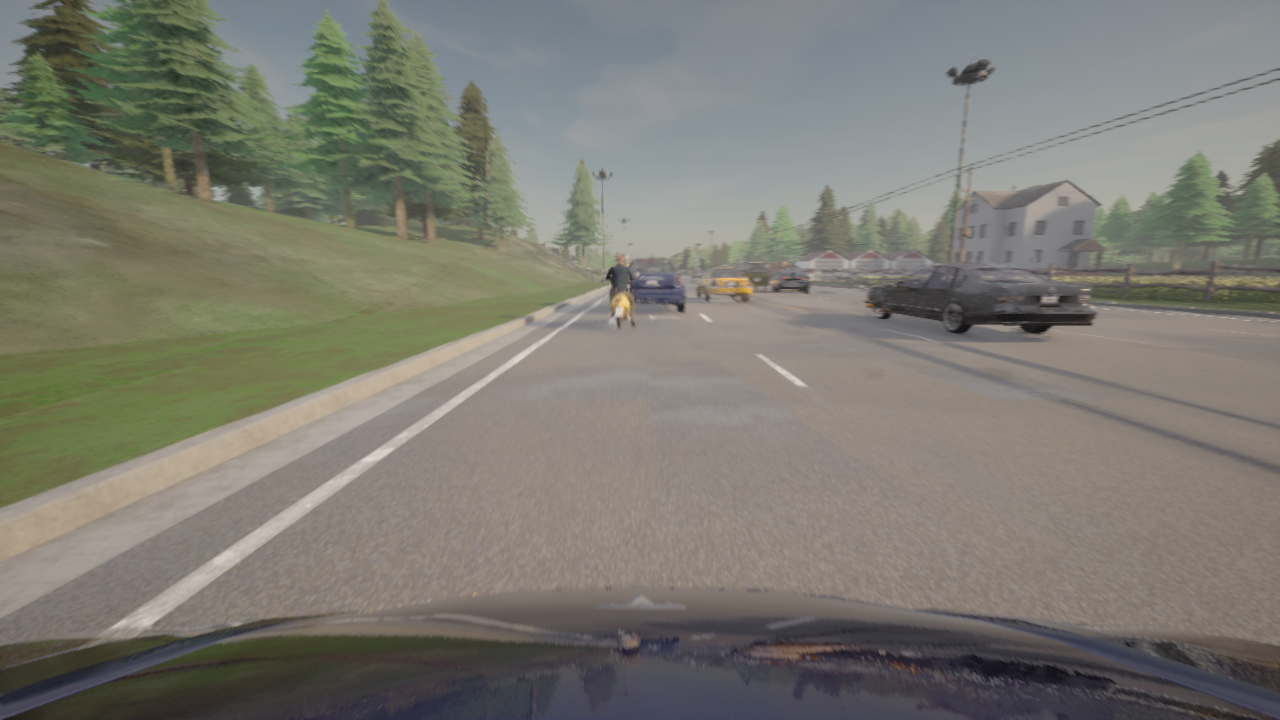cyclist: (0, 588, 1279, 719), (864, 264, 1096, 333), (627, 254, 685, 311), (602, 270, 638, 328), (696, 264, 751, 301), (734, 261, 769, 291), (771, 267, 809, 292), (696, 270, 707, 283), (690, 270, 701, 282)
